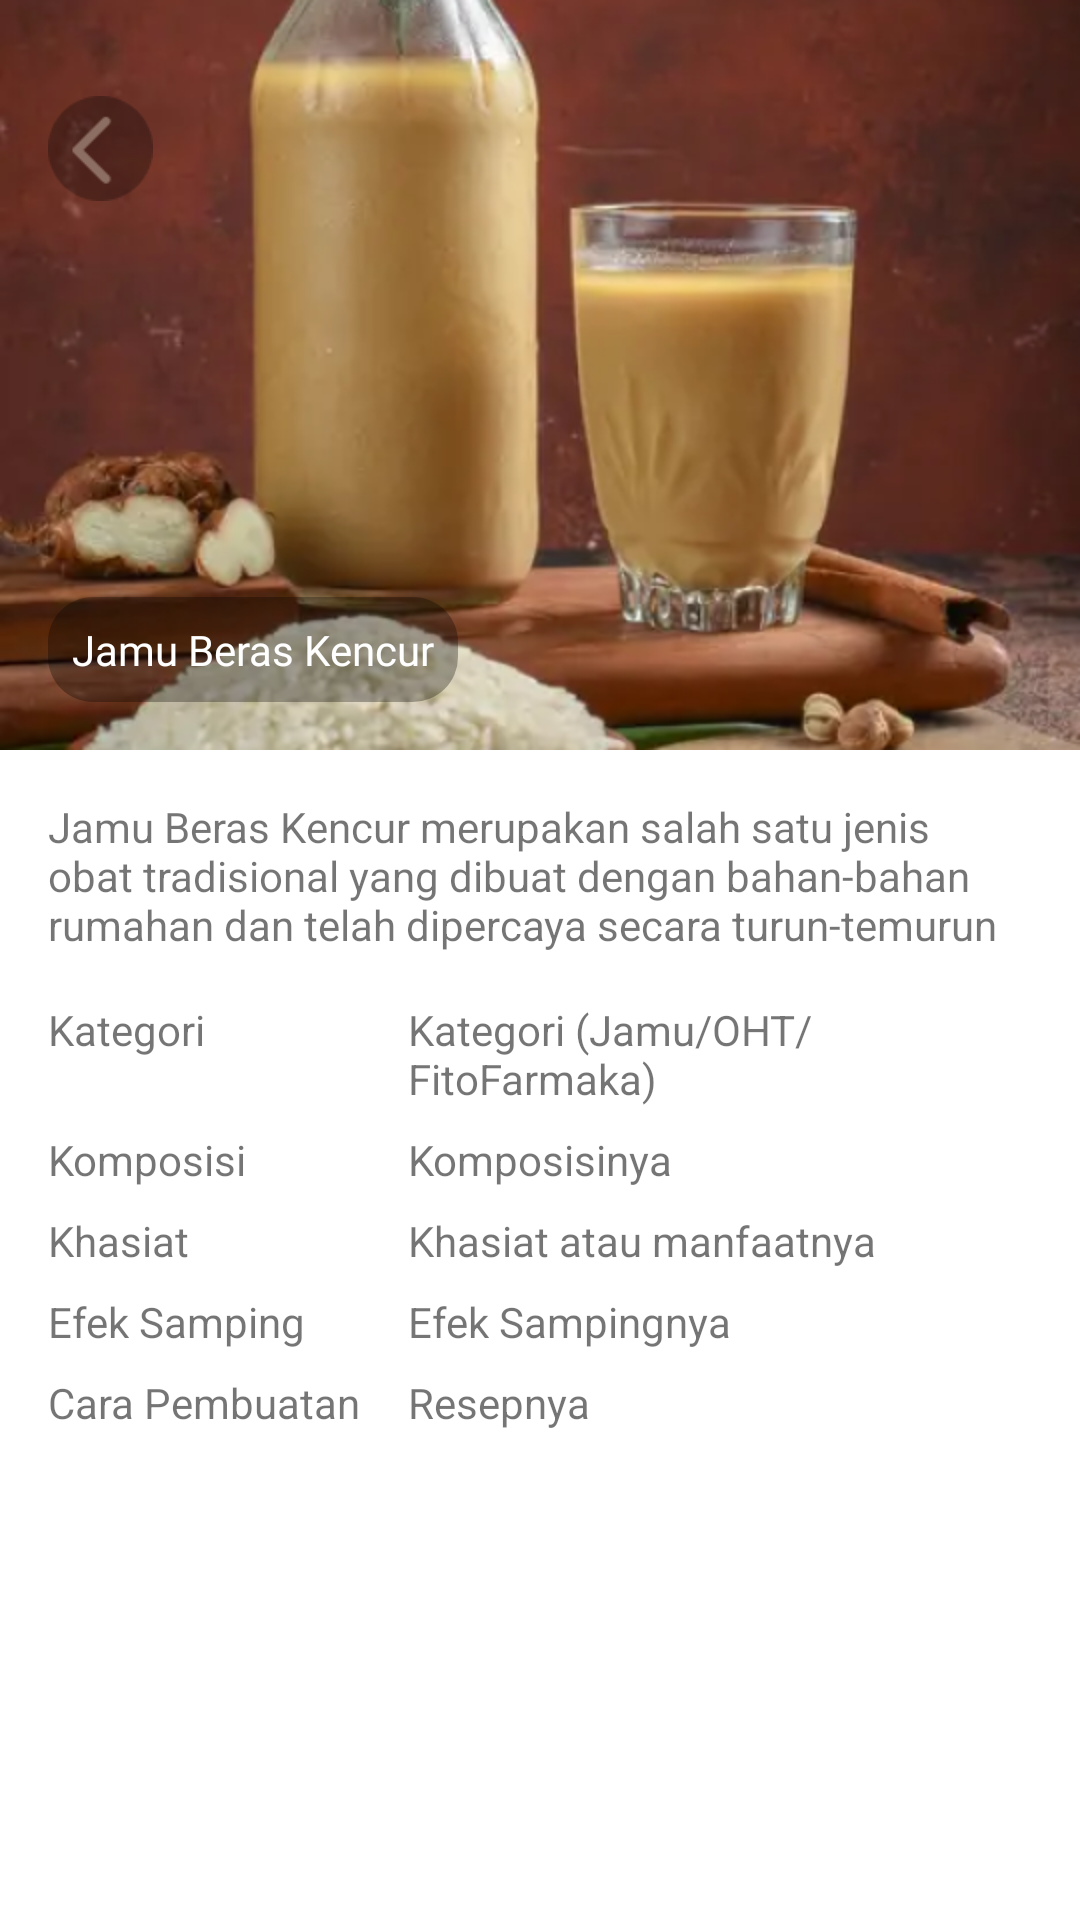

Icons on this 1080px×1920px Android screen, each with its box as (x1, y1, x2, y2):
back: (48, 96, 153, 201)
